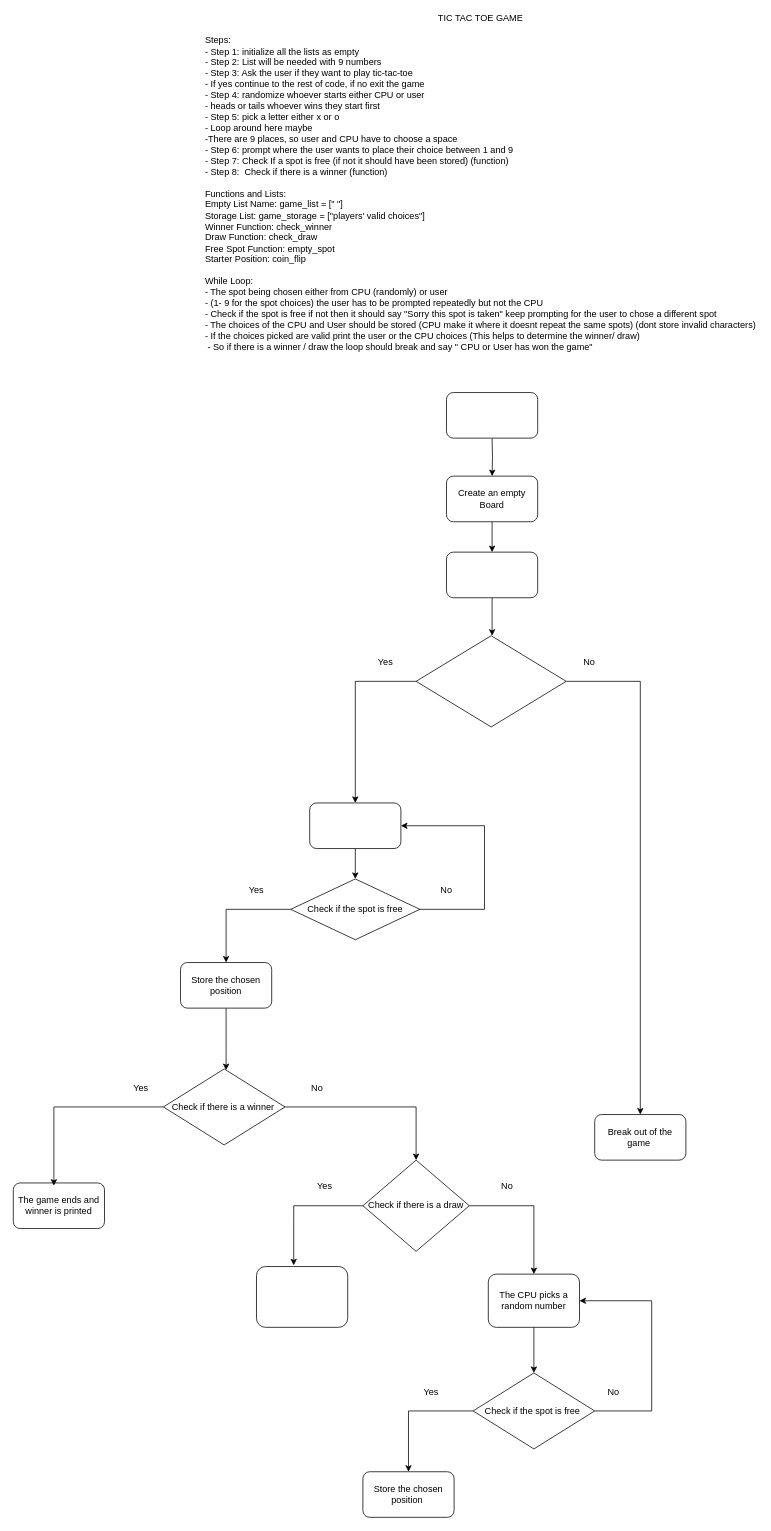
The diagram is 771 pixels wide and 1531 high, and some of its shapes have lost their labels. The shapes that lost their labels are listed below. From the top down, each one's centre as x and y in pixels, then its label:
the point at 492,415: START
the point at 492,574: Print the board make sure its accurate
the point at 490,681: Ask the User if they want to play the game.
the point at 355,825: Ask the User what spot they want (1-9)
the point at 302,1296: The game ends and print " it's a draw"
